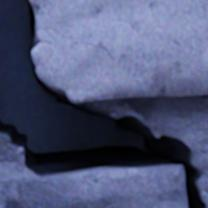brick: (0, 164, 186, 207)
broken_brick: (30, 0, 207, 102)
crack: (0, 0, 206, 207)
